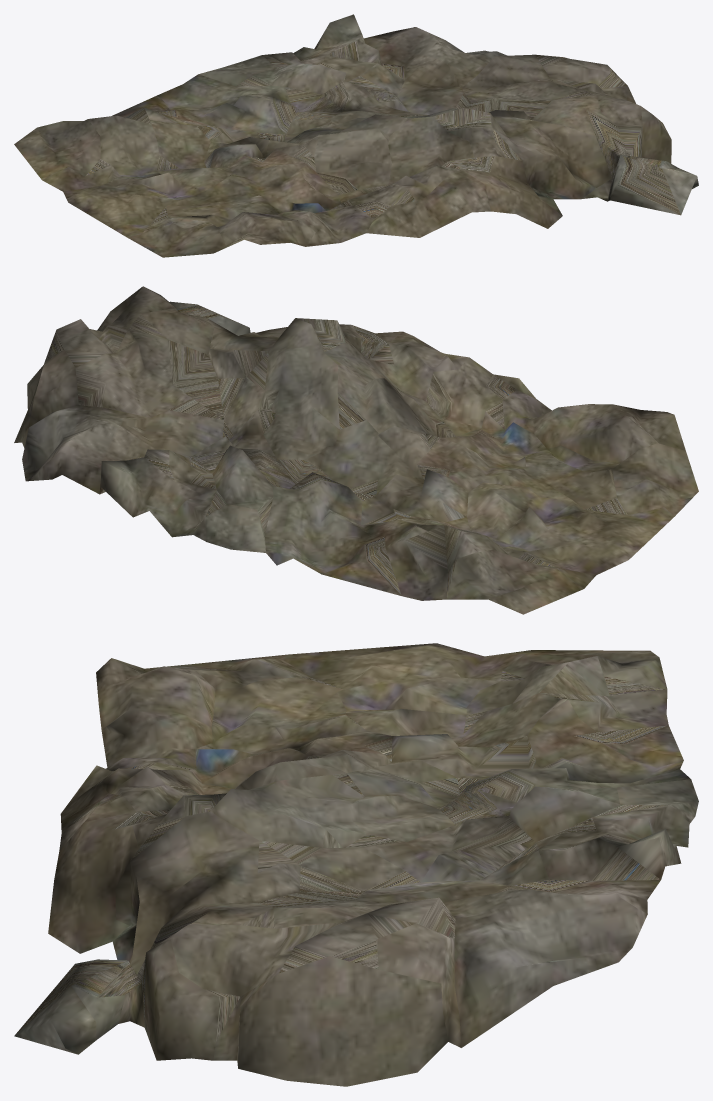
The model's file is shore-slab.lod0.glb.
The picture shows the model from 3 angles, top to bottom: view 1: azimuth 30°, elevation 25°; view 2: azimuth 150°, elevation 25°; view 3: azimuth 270°, elevation 25°; orthographic projection. The views are drawn at different scales.
Visible parts, largest first — view 1: Object_4; view 2: Object_4; view 3: Object_4.
Part boxes in pixels (x1=…): Object_4: x1=14, y1=14, x2=698, y2=257; Object_4: x1=14, y1=286, x2=698, y2=614; Object_4: x1=14, y1=643, x2=698, y2=1086.
Bounding box in the file's own units: 11.66 × 2.13 × 8.62.
Materials: 1 (1 with a texture image).
